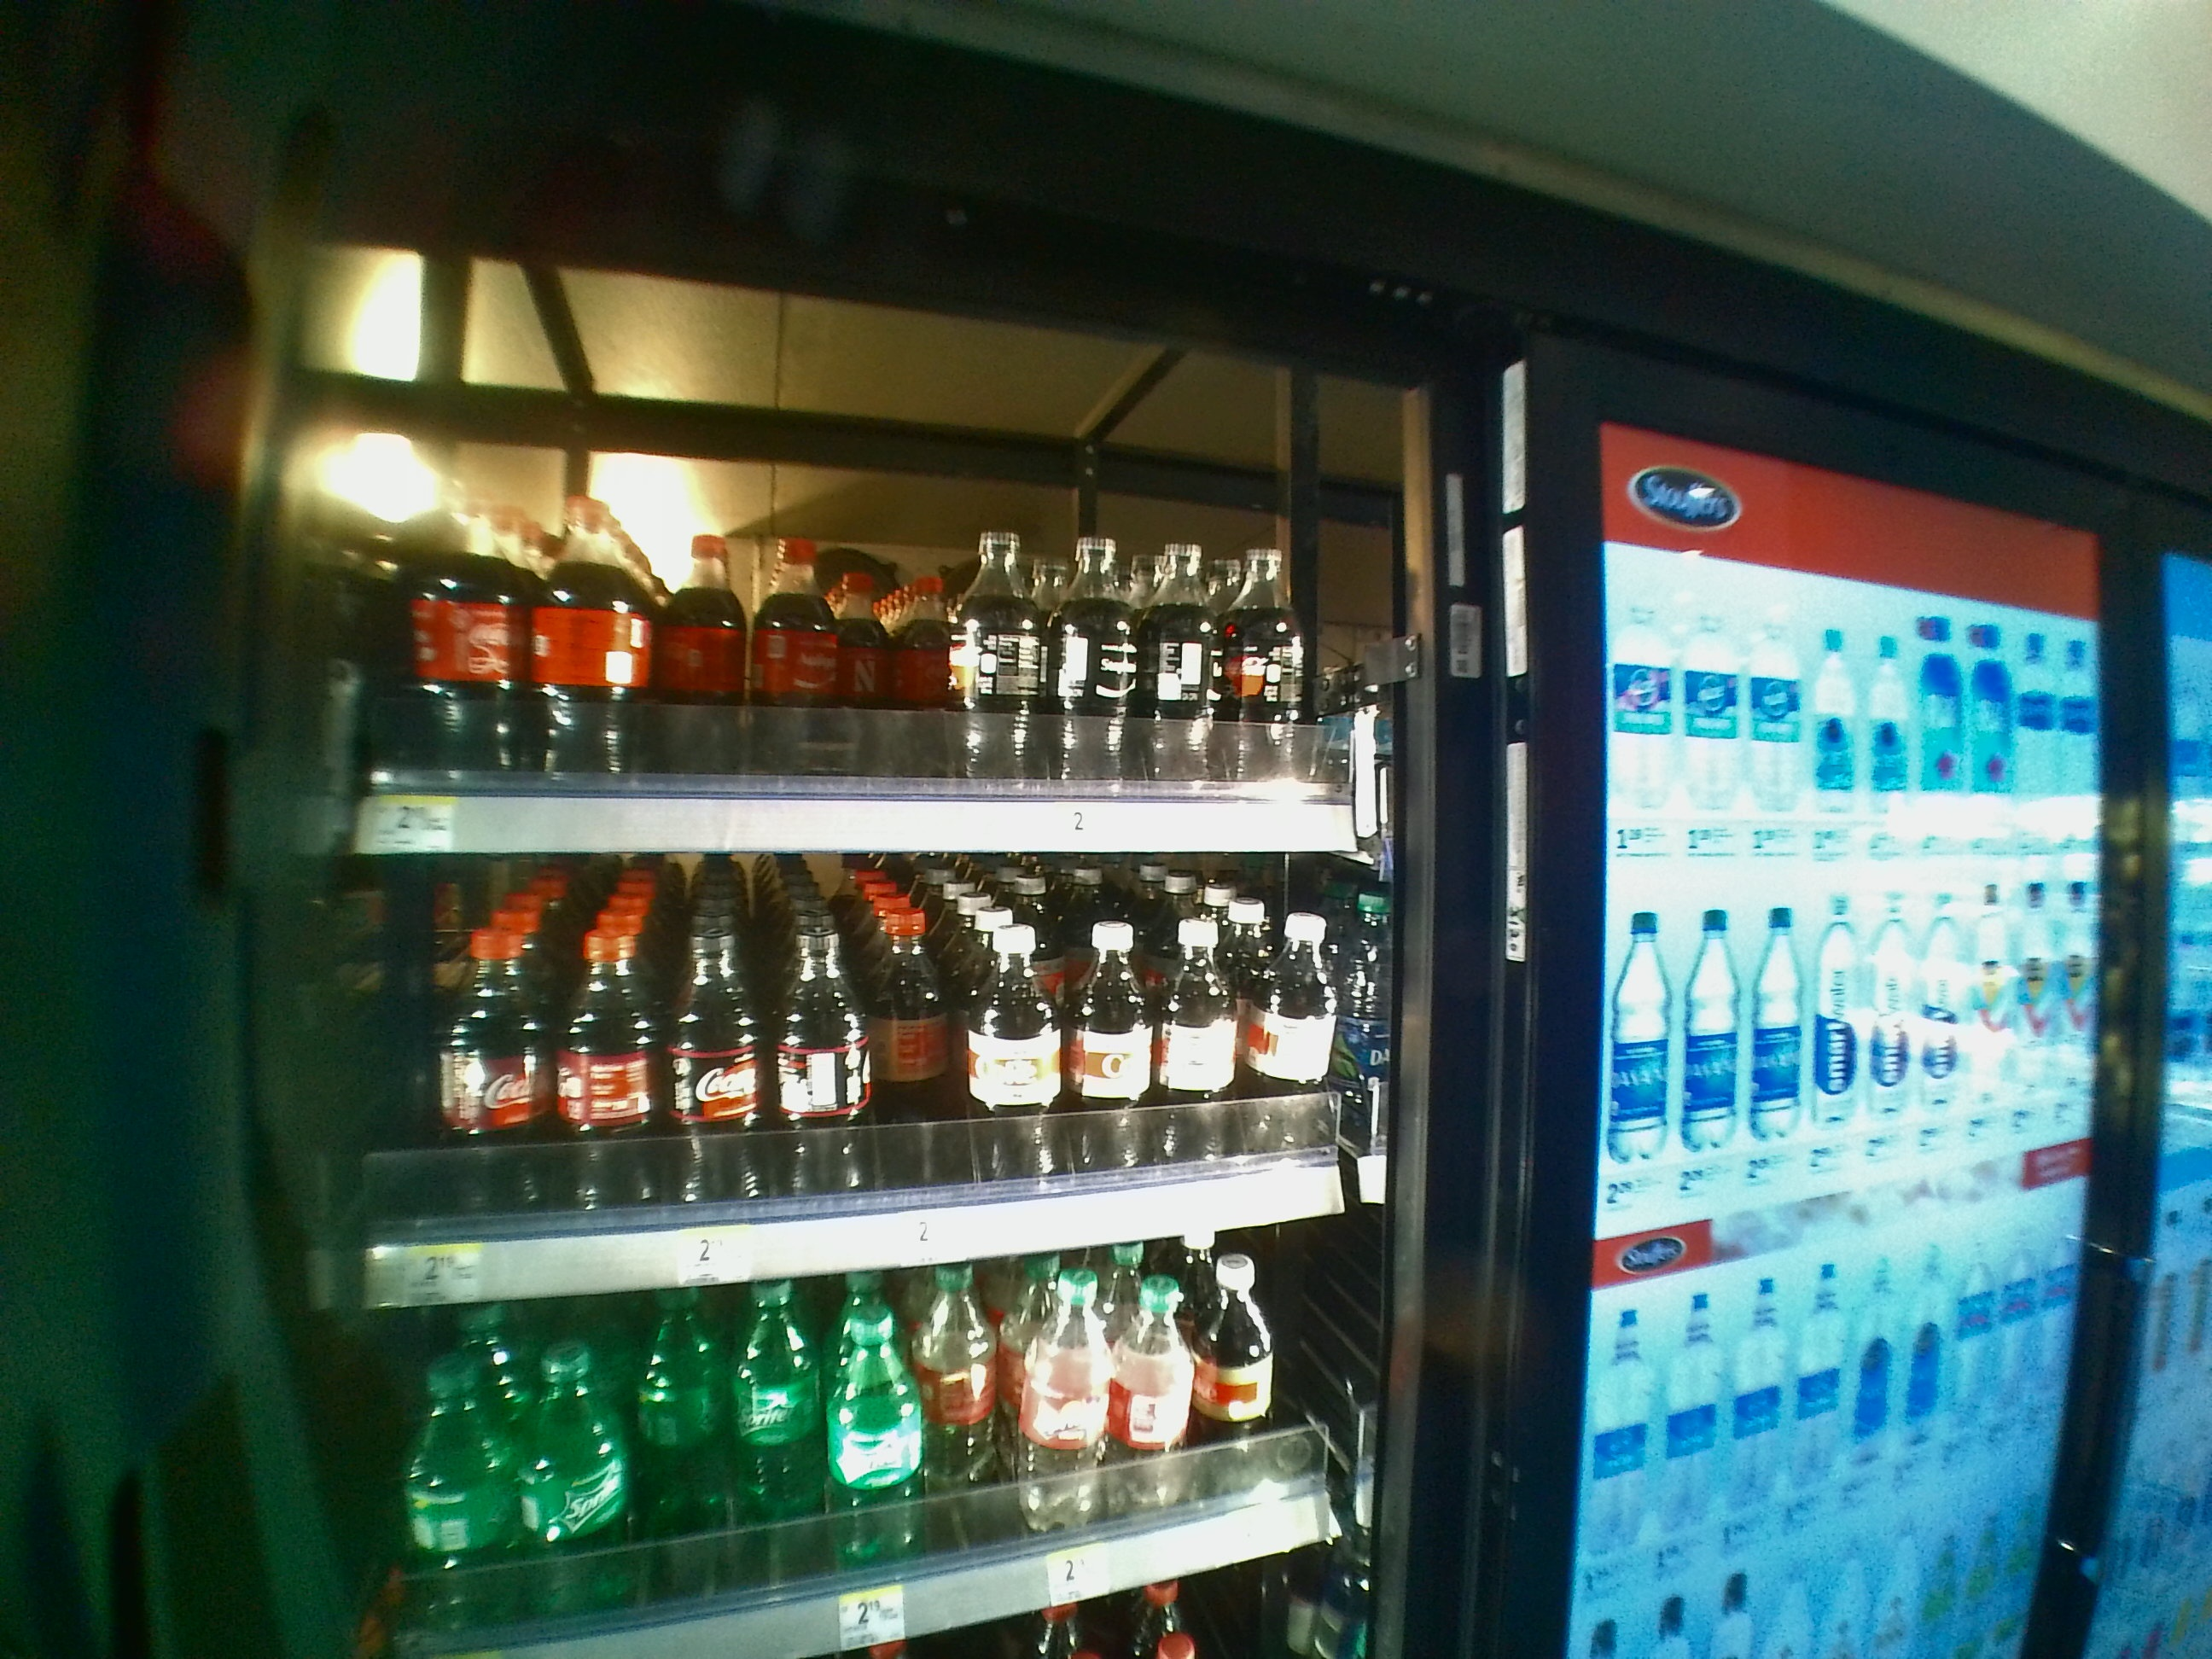shelf: (324, 247, 1420, 859), (319, 863, 1428, 1310)
